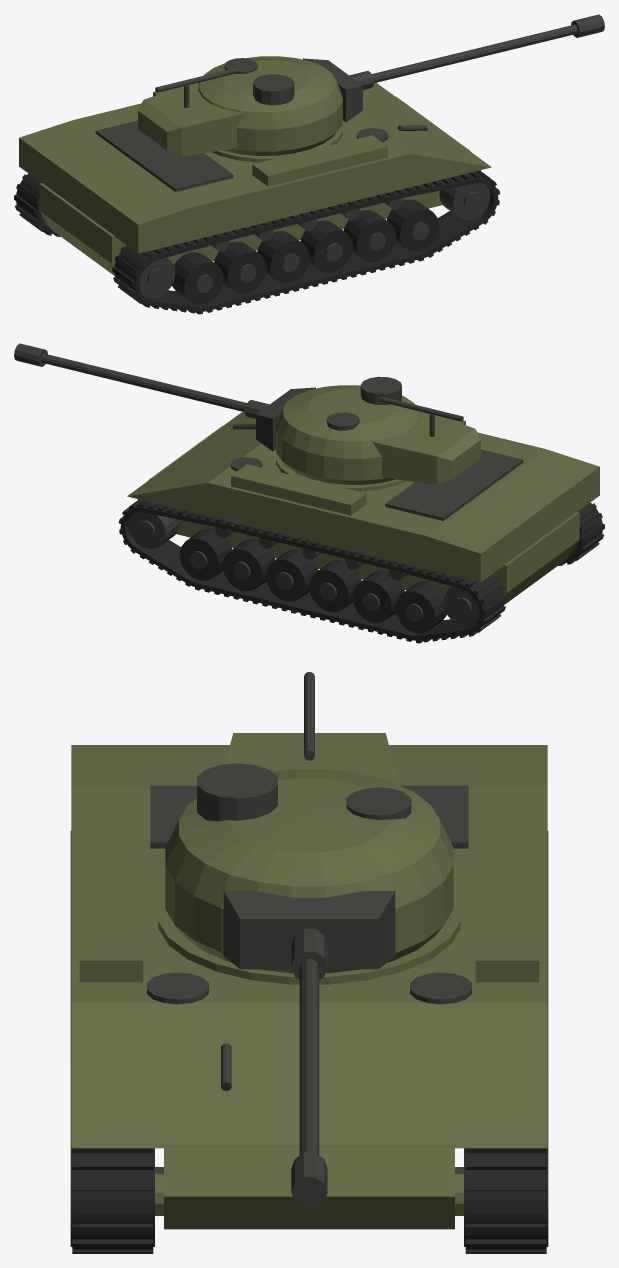
The model's file is us_m26_pershing.obj.
The picture shows the model from 3 angles, top to bottom: view 1: azimuth 30°, elevation 25°; view 2: azimuth 150°, elevation 25°; view 3: azimuth 270°, elevation 25°; orthographic projection. The views are drawn at different scales.
Bounding box in the file's own units: 8.79 × 2.87 × 3.45.
